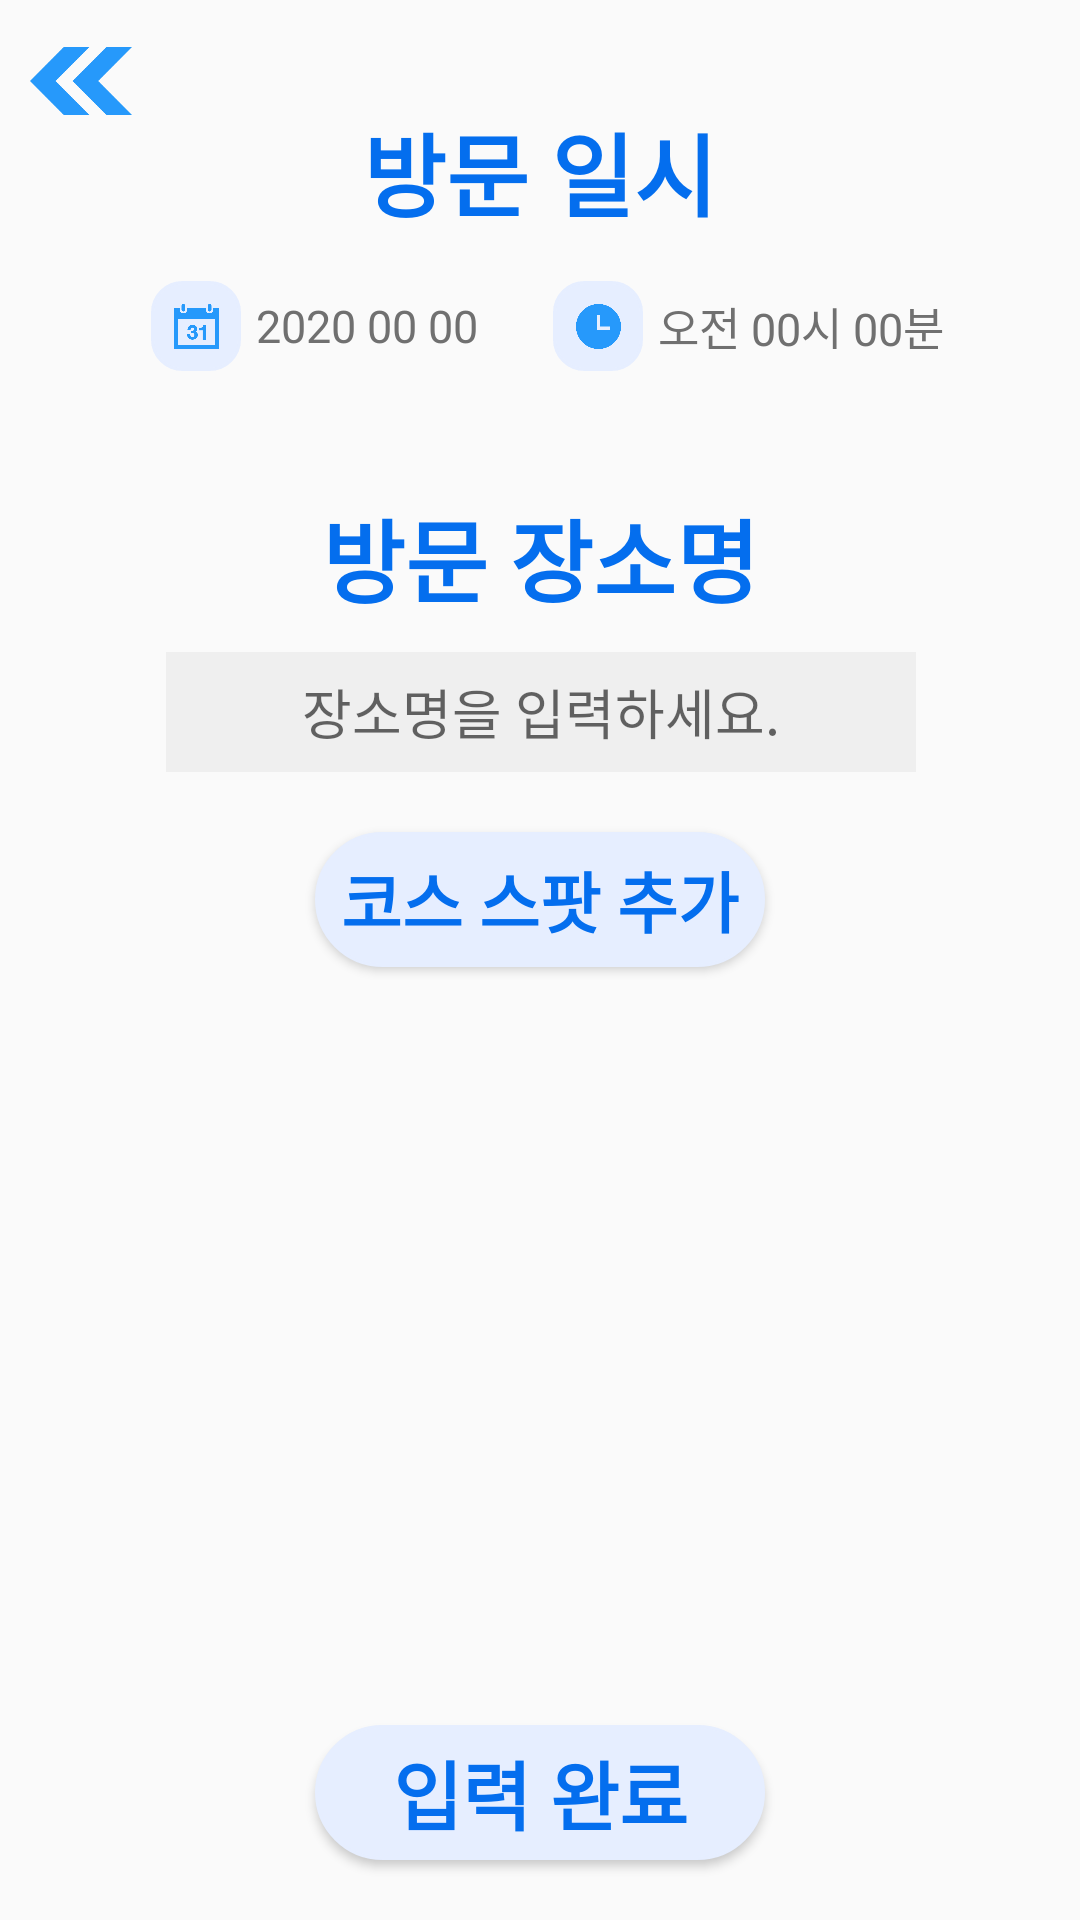

Locate icon controls on the screen. Image size 1080×1920, boxes as bbox=[x1, y1, x2, y2].
calendar: bbox=[174, 304, 219, 349]
clock: bbox=[576, 304, 621, 349]
double arrow: bbox=[30, 47, 132, 115]
